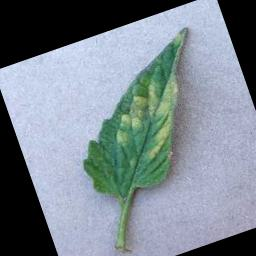Leaf_Mold: (101, 73, 197, 169)
